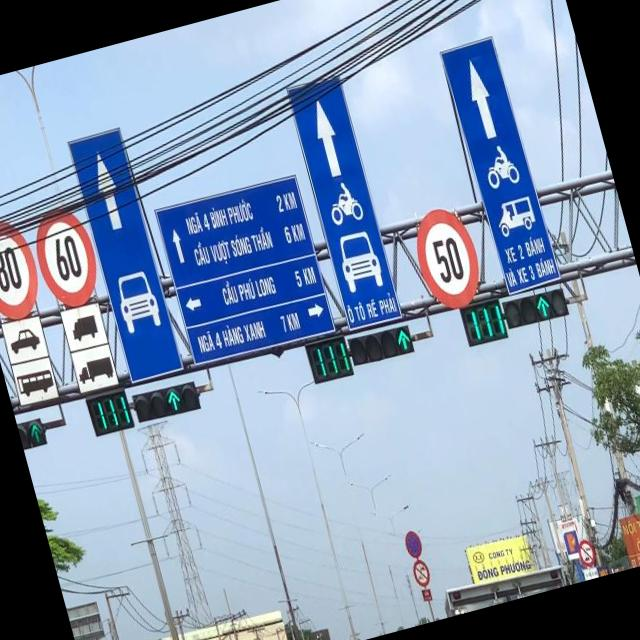P-127: (408, 202, 487, 314)
